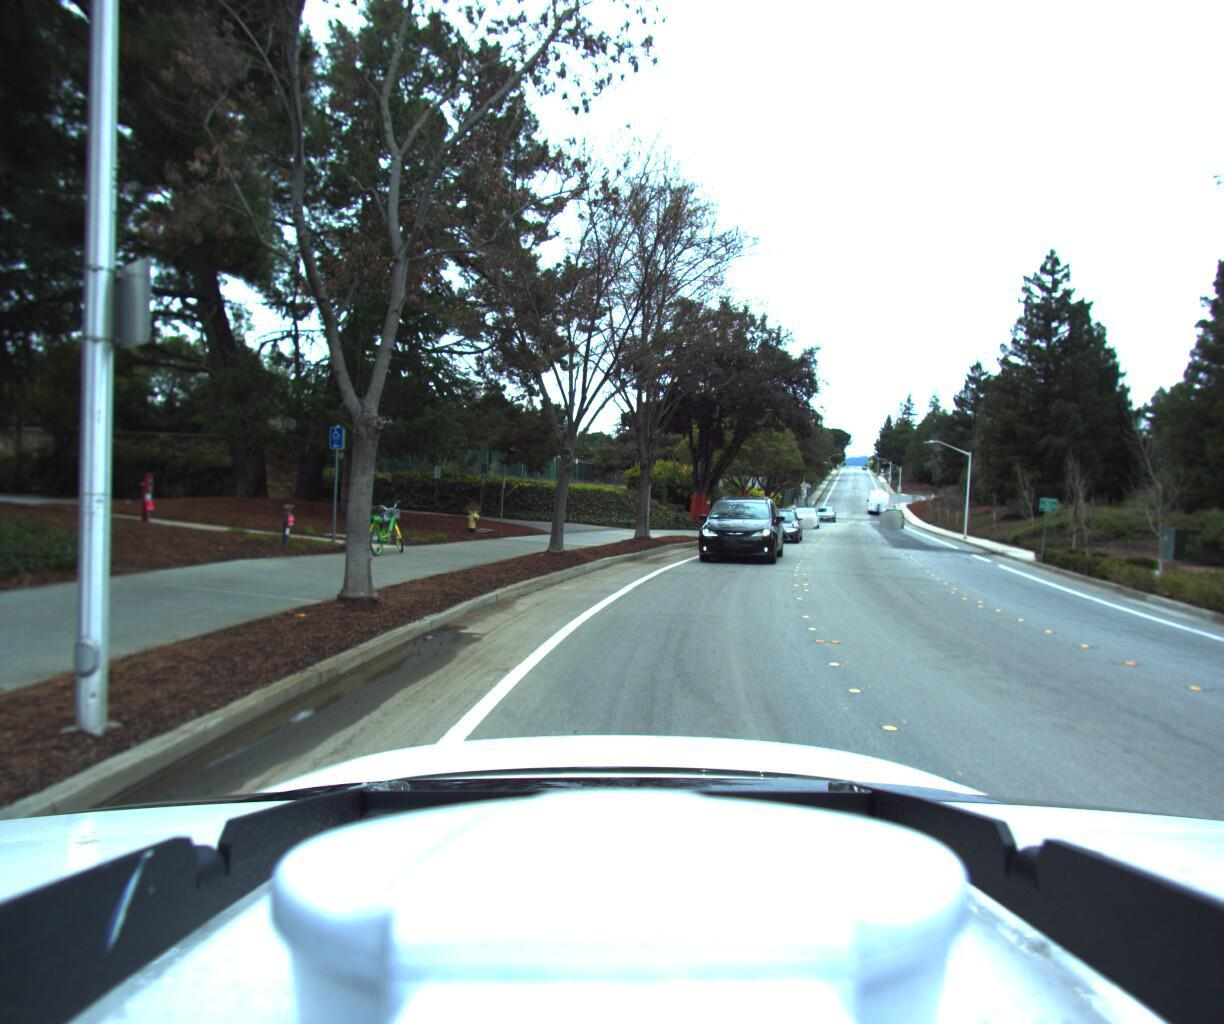bicycle: (348, 496, 415, 557)
car: (685, 483, 784, 571), (750, 504, 803, 546), (787, 501, 819, 528), (875, 505, 901, 528), (814, 502, 837, 521)
